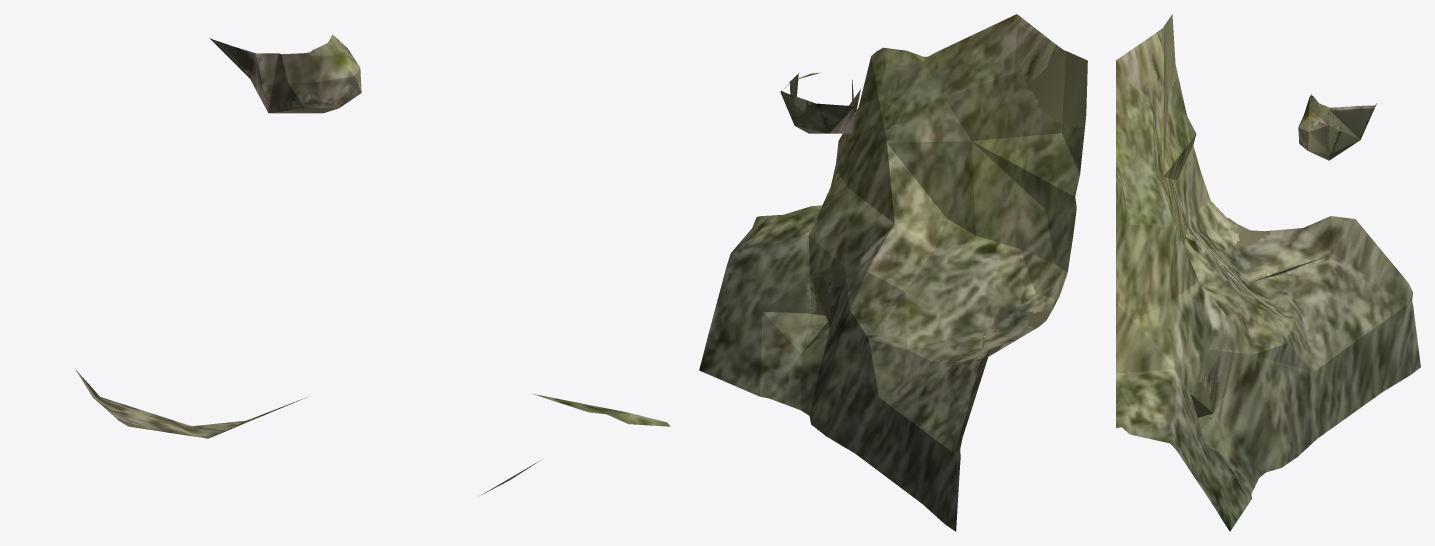
3 views of the same model, side by side, from view 1: azimuth 30°, elevation 25°; view 2: azimuth 150°, elevation 25°; view 3: azimuth 270°, elevation 25° (orthographic). The views are drawn at different scales.
Size of the model in its own units: 2.95 by 2.95 by 2.31.
Materials: 3 (3 with a texture image).
